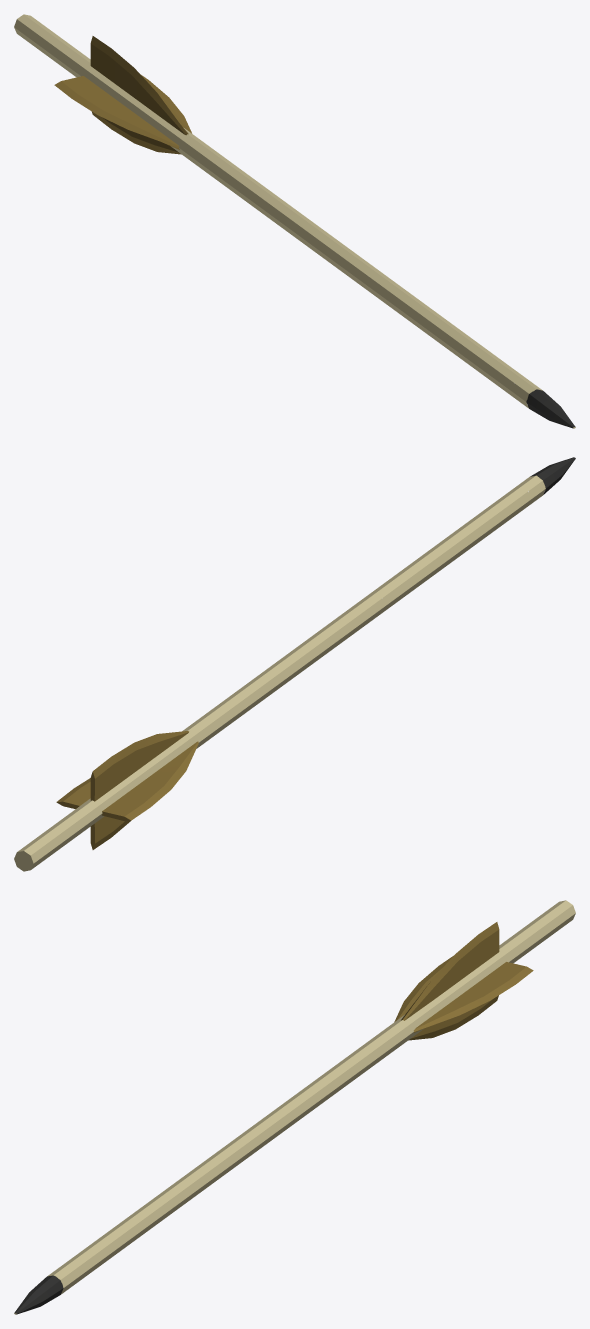
The model's file is Bolt_Part.fbx.
3 renders of one model, top to bottom at view 1: azimuth 30°, elevation 25°; view 2: azimuth 150°, elevation 25°; view 3: azimuth 330°, elevation 25°, orthographic.
Parts seen in each view (by area): view 1: Bolt; view 2: Bolt; view 3: Bolt.
Part boxes in pixels (x1=…): Bolt: x1=14, y1=14, x2=575, y2=428; Bolt: x1=14, y1=457, x2=575, y2=871; Bolt: x1=14, y1=900, x2=575, y2=1314.
Size of the model in its own units: 3.28 by 3.3 by 40.54.
Materials: 1 (1 with a texture image).
